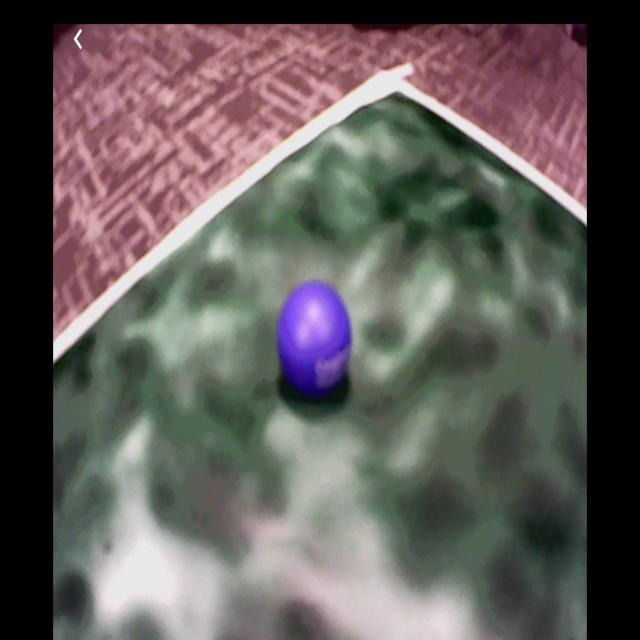ball: (277, 283, 352, 392)
